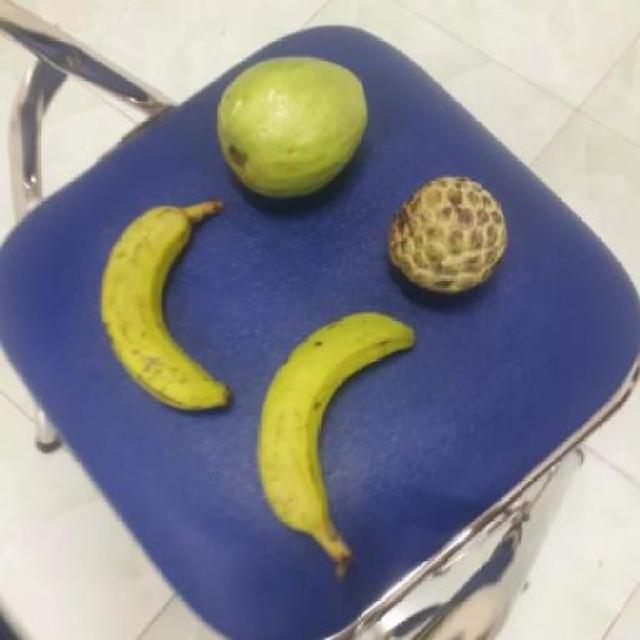banana: (258, 314, 420, 540), (98, 198, 234, 410)
guava: (217, 50, 371, 202)
sugar apple: (390, 174, 515, 294)
